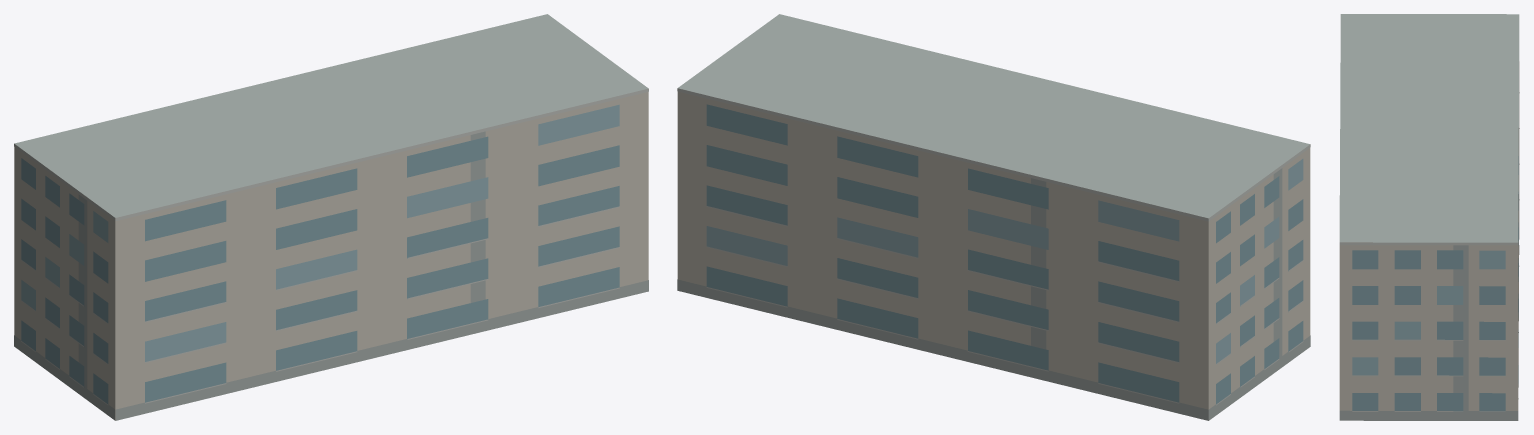
Rendered from residential-999e2e99-e8be-4e80-a8df-20f5dbea0ce2.glb.
3 renders of one model, left to right at view 1: azimuth 30°, elevation 25°; view 2: azimuth 150°, elevation 25°; view 3: azimuth 270°, elevation 25°, orthographic. The views are drawn at different scales.
Parts seen in each view (by area): view 1: residential-999e2e99-e8be-4e80-a8df-20f5dbea0ce2.tmp; view 2: residential-999e2e99-e8be-4e80-a8df-20f5dbea0ce2.tmp; view 3: residential-999e2e99-e8be-4e80-a8df-20f5dbea0ce2.tmp.
Boxes of the visible parts, left/top/right/bottom form: residential-999e2e99-e8be-4e80-a8df-20f5dbea0ce2.tmp: left=14, top=14, right=648, bottom=420; residential-999e2e99-e8be-4e80-a8df-20f5dbea0ce2.tmp: left=677, top=14, right=1310, bottom=420; residential-999e2e99-e8be-4e80-a8df-20f5dbea0ce2.tmp: left=1339, top=14, right=1519, bottom=420.
Bounding box in the file's own units: 41.96 × 15.25 × 13.96.
